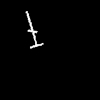double_crochet: (26, 11, 42, 47)
